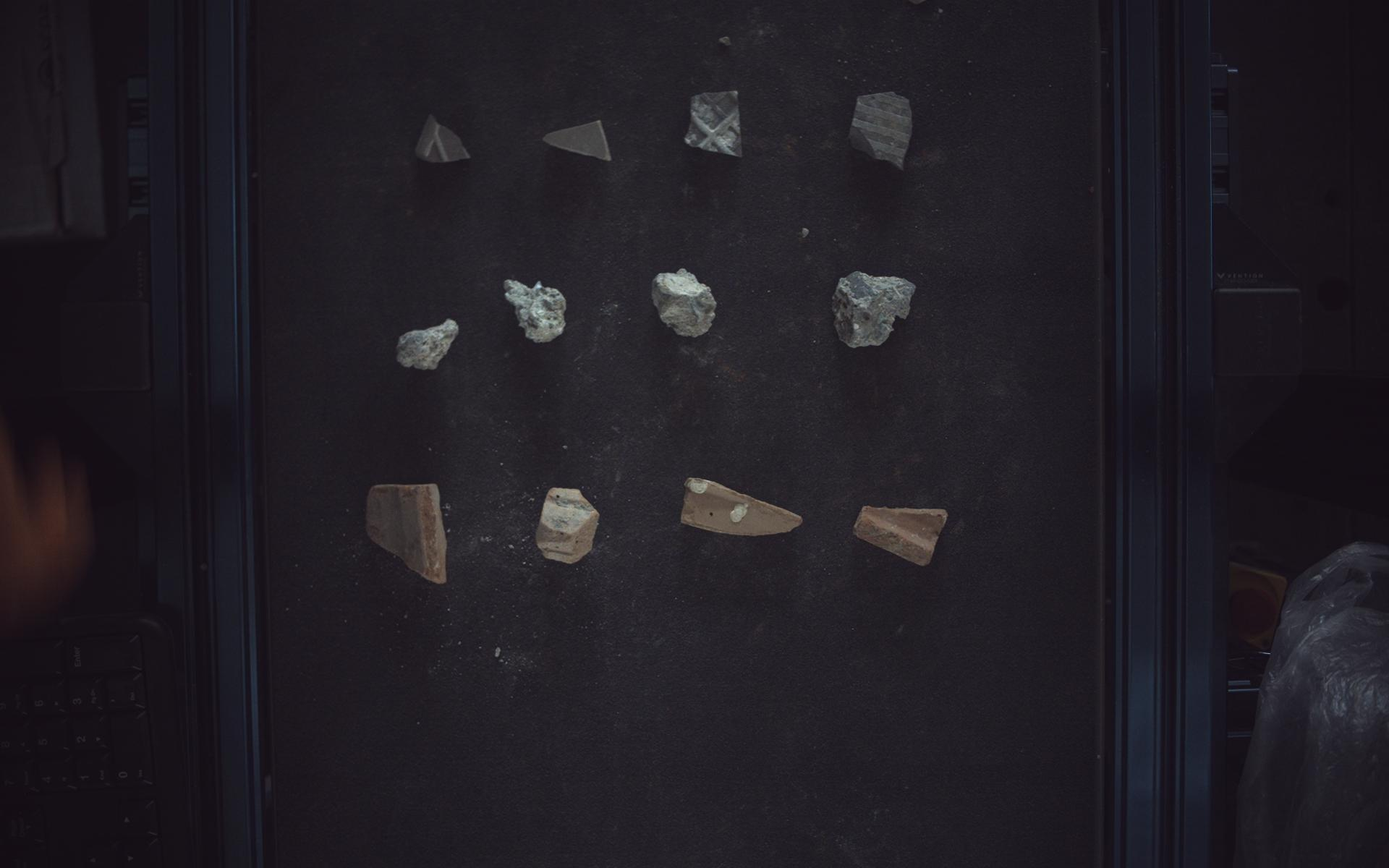brick: (365, 485, 447, 584), (681, 477, 803, 537), (855, 506, 949, 566), (536, 488, 600, 565)
concrete: (834, 271, 917, 348), (653, 268, 718, 336), (504, 279, 567, 343), (396, 319, 459, 370)
tile: (851, 91, 914, 168), (686, 91, 742, 156), (543, 119, 611, 160), (415, 113, 470, 162)
